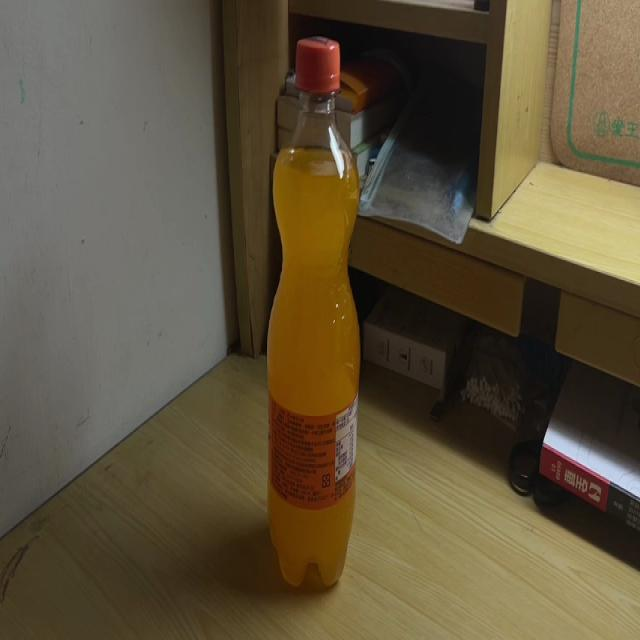Fanta: (267, 38, 361, 588)
